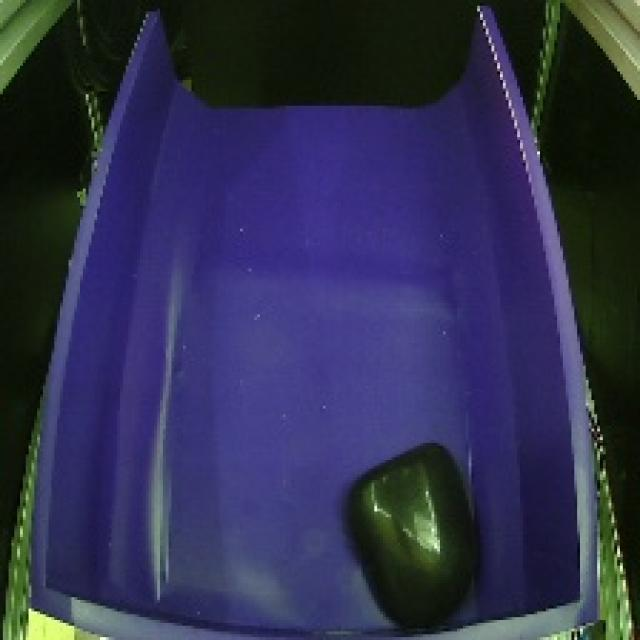cobbles: (323, 433, 496, 630)
